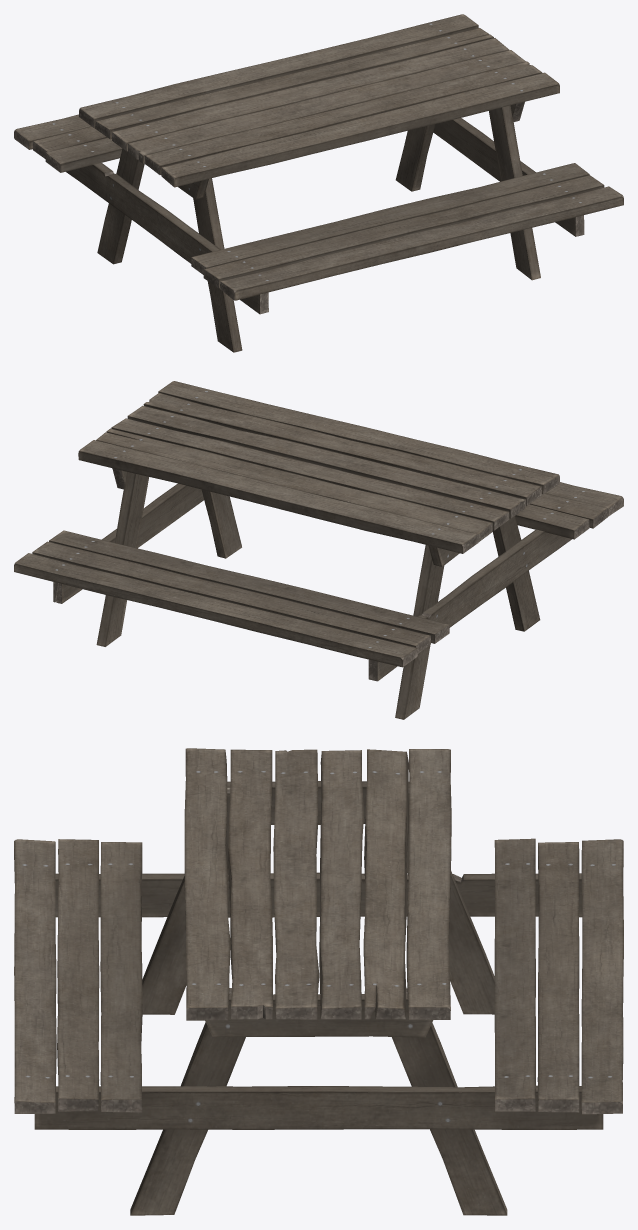
The model's file is Bench.obj.
3 renders of one model, top to bottom at view 1: azimuth 30°, elevation 25°; view 2: azimuth 150°, elevation 25°; view 3: azimuth 270°, elevation 25°, orthographic. The views are drawn at different scales.
Visible parts, largest first — view 1: PicnicTable; view 2: PicnicTable; view 3: PicnicTable.
Boxes of the visible parts, x1=… form: PicnicTable: x1=14, y1=14, x2=623, y2=352; PicnicTable: x1=14, y1=381, x2=623, y2=719; PicnicTable: x1=14, y1=748, x2=623, y2=1215.
Size of the model in its own units: 1.8 by 0.7513 by 1.77.
